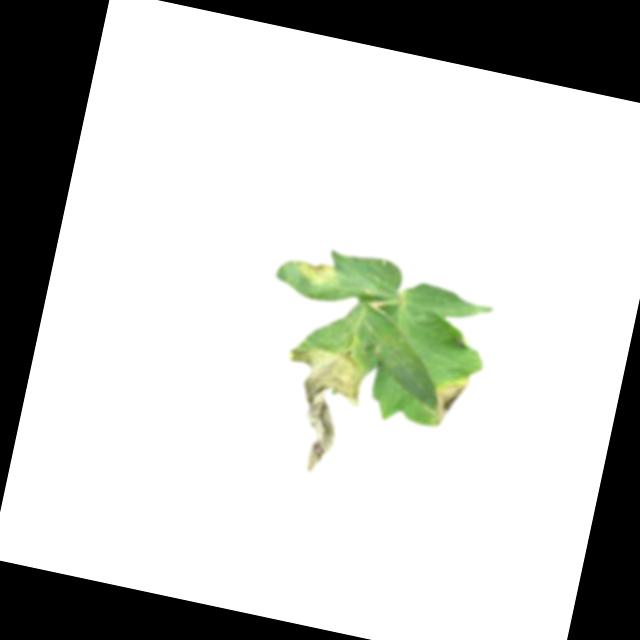Late_blight: (263, 334, 373, 482), (425, 374, 470, 433), (289, 250, 346, 291)
